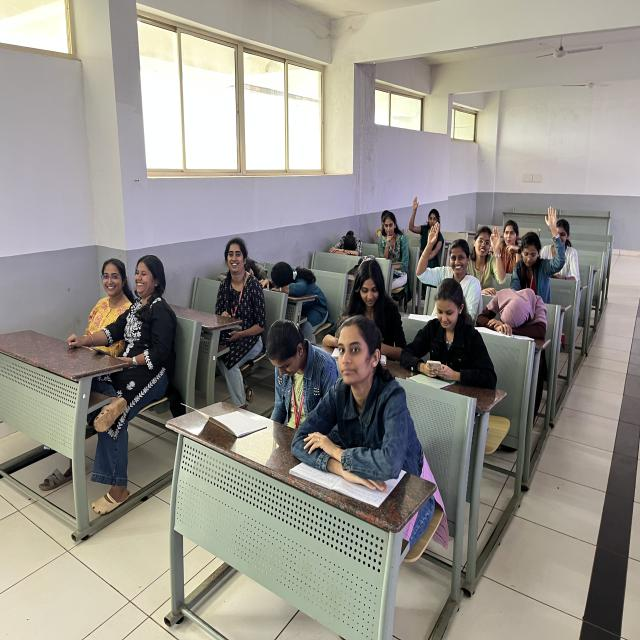Hand Rising: (413, 213, 482, 337), (510, 197, 570, 299), (468, 209, 512, 296), (406, 184, 453, 262)
Sleeping: (477, 278, 561, 369), (263, 248, 342, 344), (234, 226, 274, 300), (323, 225, 369, 272)
Using Phone: (234, 276, 327, 454), (86, 213, 170, 398), (412, 265, 487, 428)
